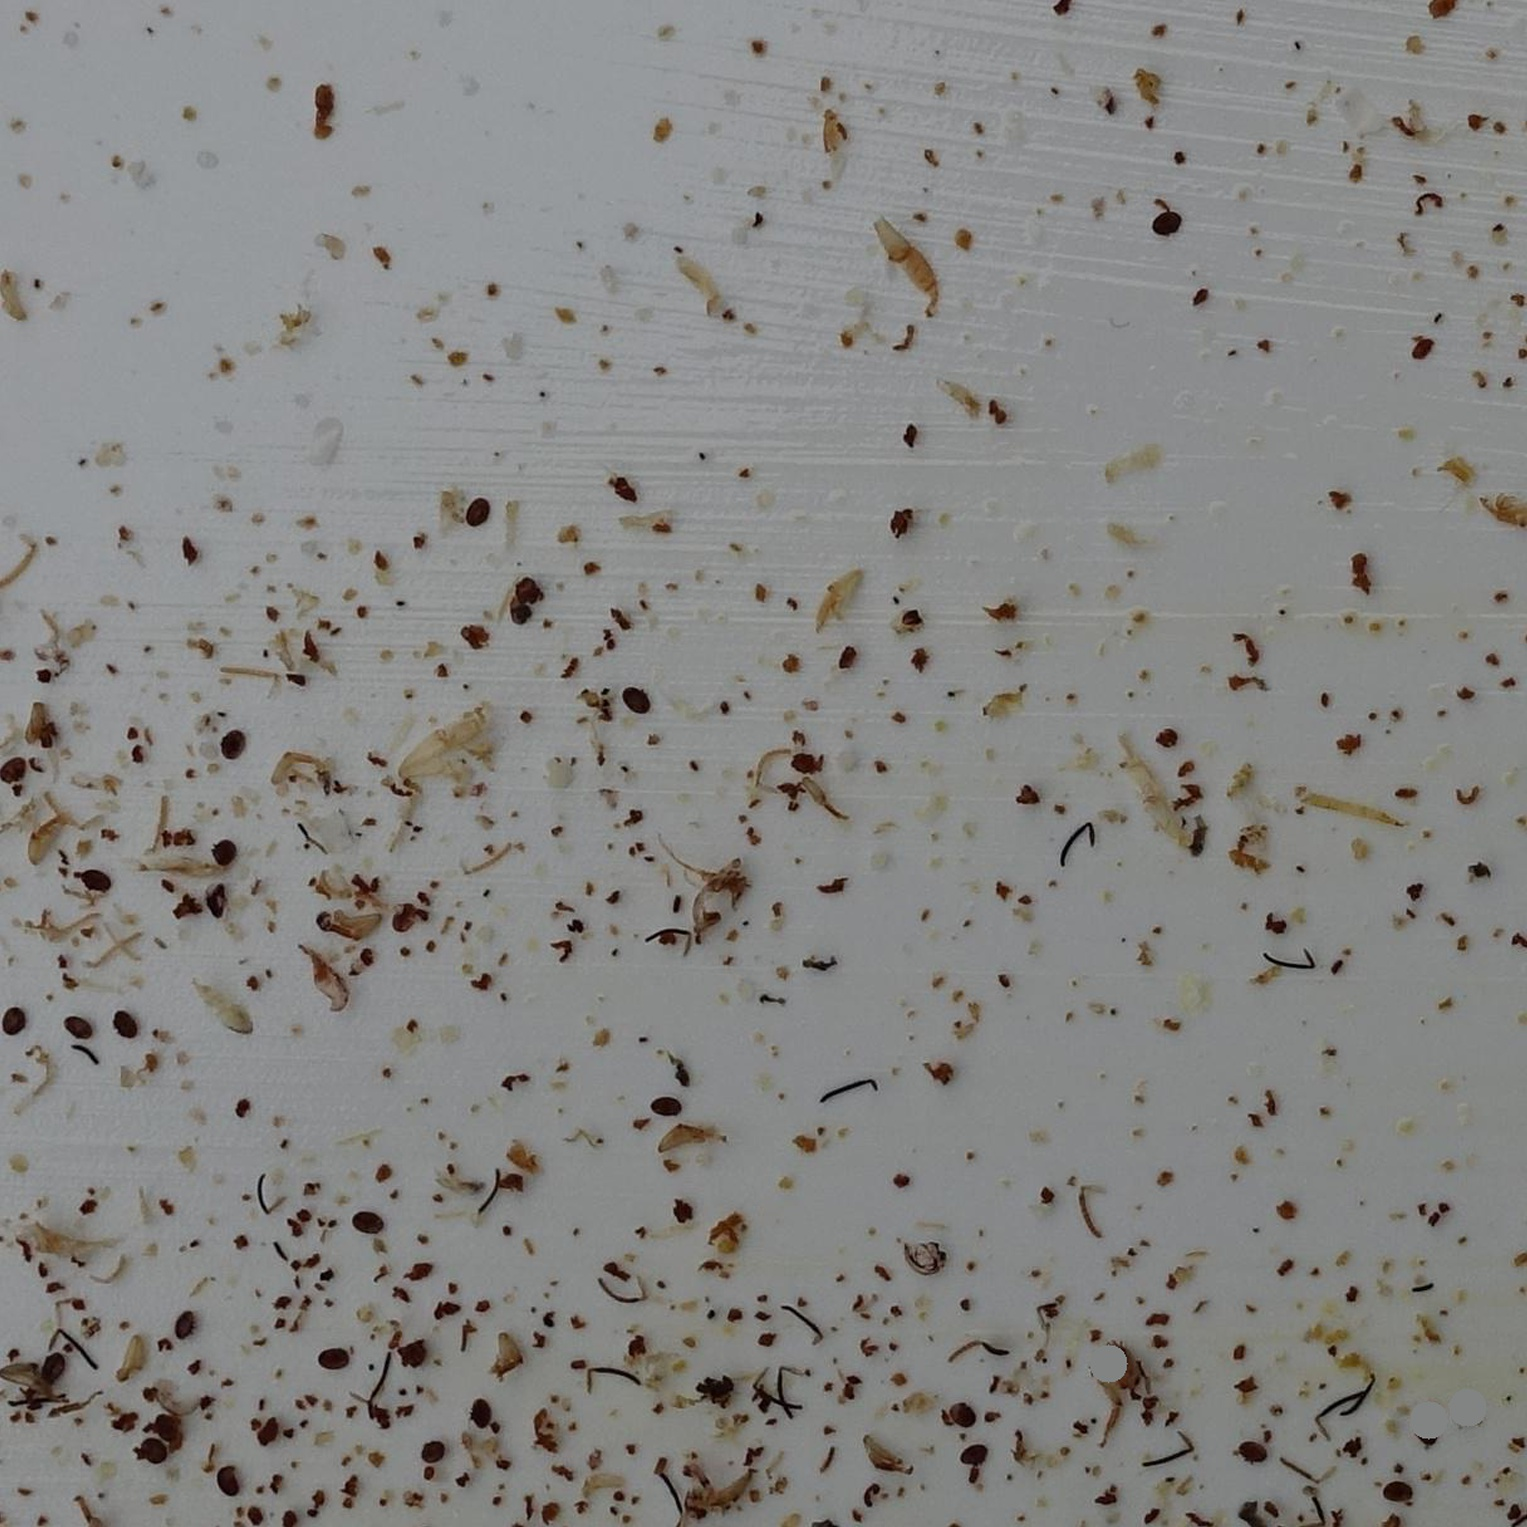Varroa: (1235, 1439, 1266, 1470), (956, 1447, 986, 1479), (41, 1356, 71, 1386), (227, 722, 256, 748), (624, 682, 652, 709), (144, 1436, 169, 1464), (115, 1010, 140, 1035), (420, 1440, 445, 1465), (1, 759, 24, 787), (173, 1310, 199, 1334), (322, 1347, 347, 1370), (1, 1010, 27, 1033), (468, 1398, 494, 1422), (85, 867, 108, 894), (656, 1089, 678, 1116), (64, 1012, 89, 1035), (951, 1400, 973, 1424), (214, 838, 234, 861), (467, 498, 488, 519), (218, 1471, 234, 1486), (1390, 1481, 1404, 1493), (1165, 213, 1177, 227), (394, 917, 407, 931), (361, 1210, 373, 1222), (227, 748, 241, 758), (1422, 1428, 1432, 1439)
